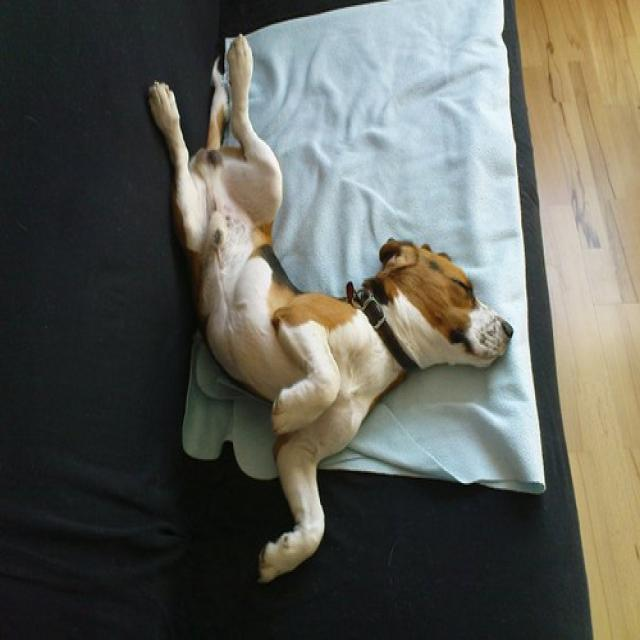dog-beagle: (146, 36, 412, 589)
